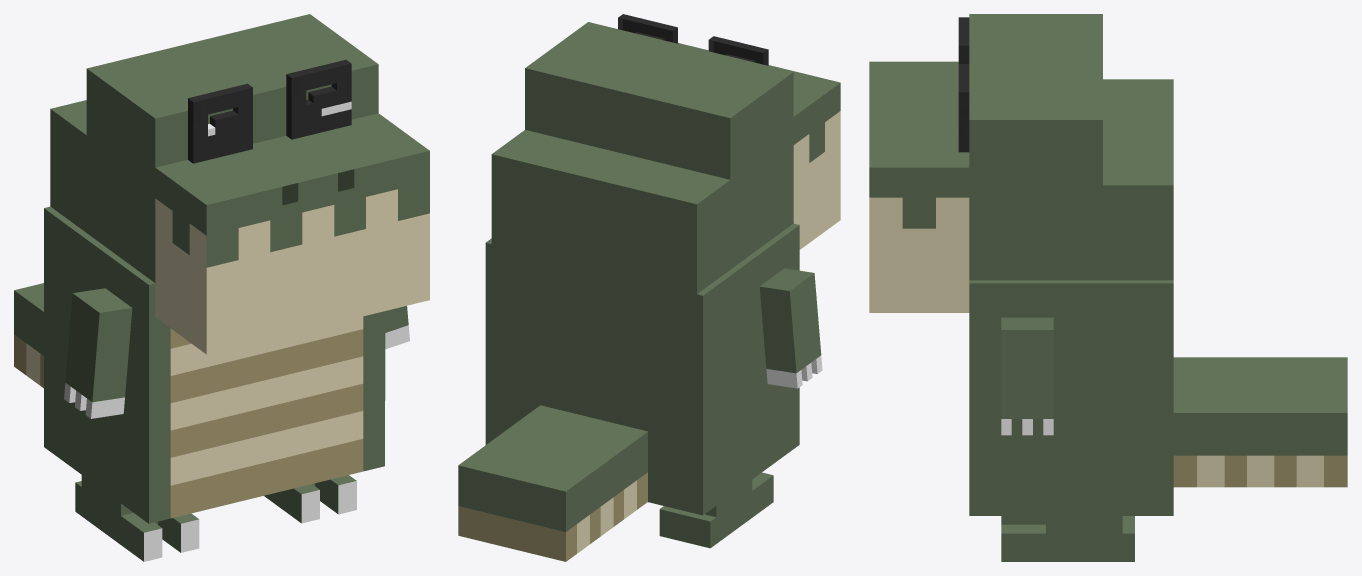
3 views of the same model, side by side, from view 1: azimuth 30°, elevation 25°; view 2: azimuth 150°, elevation 25°; view 3: azimuth 270°, elevation 25° (orthographic). The views are drawn at different scales.
Visible parts, largest first — view 1: Ch_23_Head, Ch_23, Ch_23_Hand_L, Ch_23_Leg_L, Ch_23_Eye_03_R, Ch_23_Eye_03_L, Ch_23_Tail, Ch_23_Leg_R, Ch_23_Hand_R, Ch_23_Eye_01; view 2: Ch_23_Head, Ch_23, Ch_23_Tail, Ch_23_Hand_L, Ch_23_Leg_L, Ch_23_Eye_03_L, Ch_23_Eye_03_R; view 3: Ch_23_Head, Ch_23, Ch_23_Tail, Ch_23_Leg_R, Ch_23_Hand_R, Ch_23_Eye_03_R.
Part boxes in pixels (left/top/right/bottom): Ch_23_Head: left=50, top=14, right=429, bottom=354; Ch_23: left=44, top=206, right=385, bottom=523; Ch_23_Hand_L: left=64, top=288, right=132, bottom=418; Ch_23_Leg_L: left=75, top=475, right=199, bottom=561; Ch_23_Eye_03_R: left=286, top=59, right=351, bottom=139; Ch_23_Eye_03_L: left=188, top=83, right=252, bottom=163; Ch_23_Tail: left=14, top=283, right=43, bottom=388; Ch_23_Leg_R: left=264, top=475, right=356, bottom=523; Ch_23_Hand_R: left=385, top=306, right=409, bottom=349; Ch_23_Eye_01: left=208, top=100, right=351, bottom=136; Ch_23_Head: left=491, top=22, right=840, bottom=293; Ch_23: left=485, top=223, right=799, bottom=515; Ch_23_Tail: left=458, top=405, right=647, bottom=561; Ch_23_Hand_L: left=759, top=268, right=822, bottom=388; Ch_23_Leg_L: left=659, top=472, right=773, bottom=548; Ch_23_Eye_03_L: left=708, top=36, right=768, bottom=65; Ch_23_Eye_03_R: left=618, top=14, right=677, bottom=43; Ch_23_Head: left=869, top=14, right=1173, bottom=312; Ch_23: left=969, top=280, right=1173, bottom=515; Ch_23_Tail: left=1173, top=357, right=1347, bottom=487; Ch_23_Leg_R: left=1001, top=516, right=1134, bottom=561; Ch_23_Hand_R: left=1001, top=317, right=1053, bottom=435; Ch_23_Eye_03_R: left=958, top=64, right=969, bottom=152.
Size of the model in its own units: 8.42 by 11.83 by 11.23.
